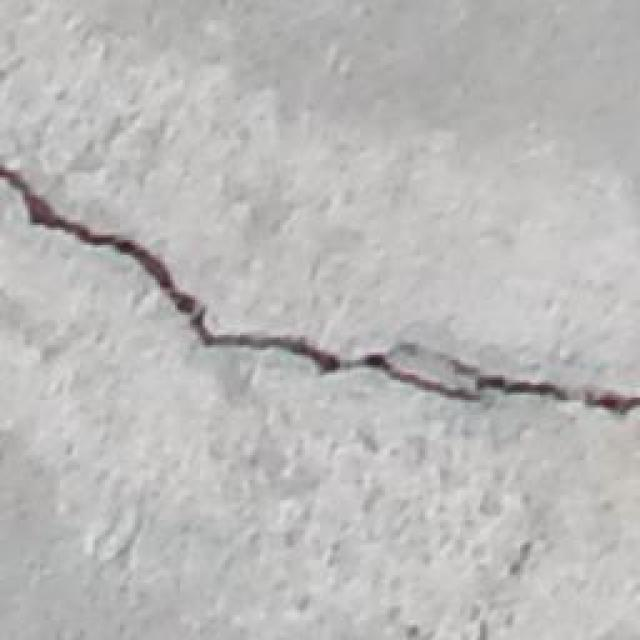concrete-crack: (1, 166, 640, 412)
